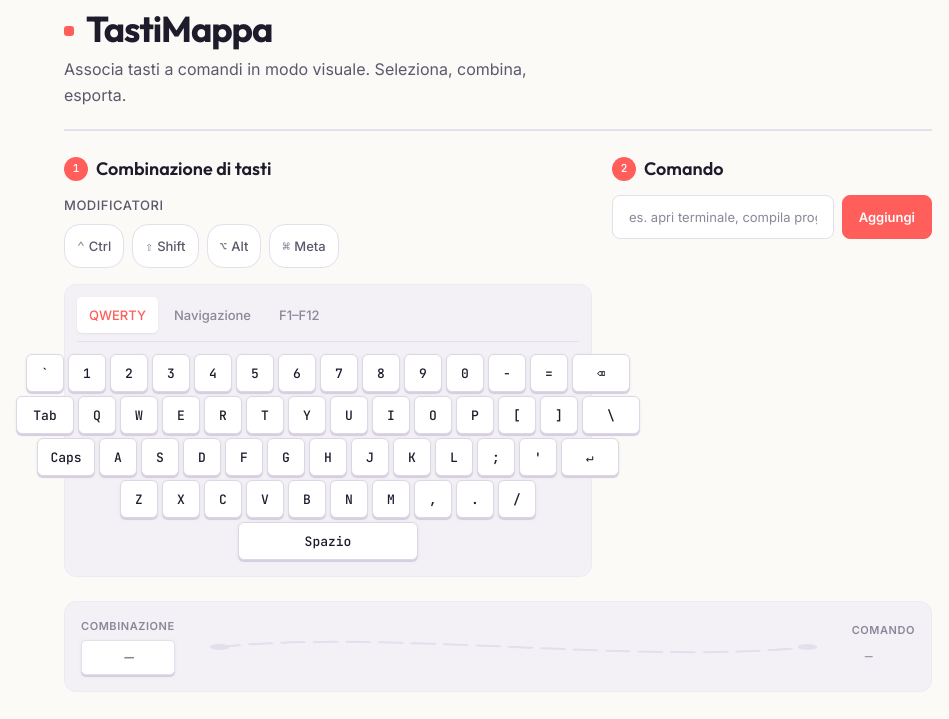
Scenario: TastiMappa › mostra errore se si prova ad aggiungere senza selezionare un tasto
Step 1. Click the button "Aggiungi" → (887, 217), box left=842, top=195, right=932, bottom=239
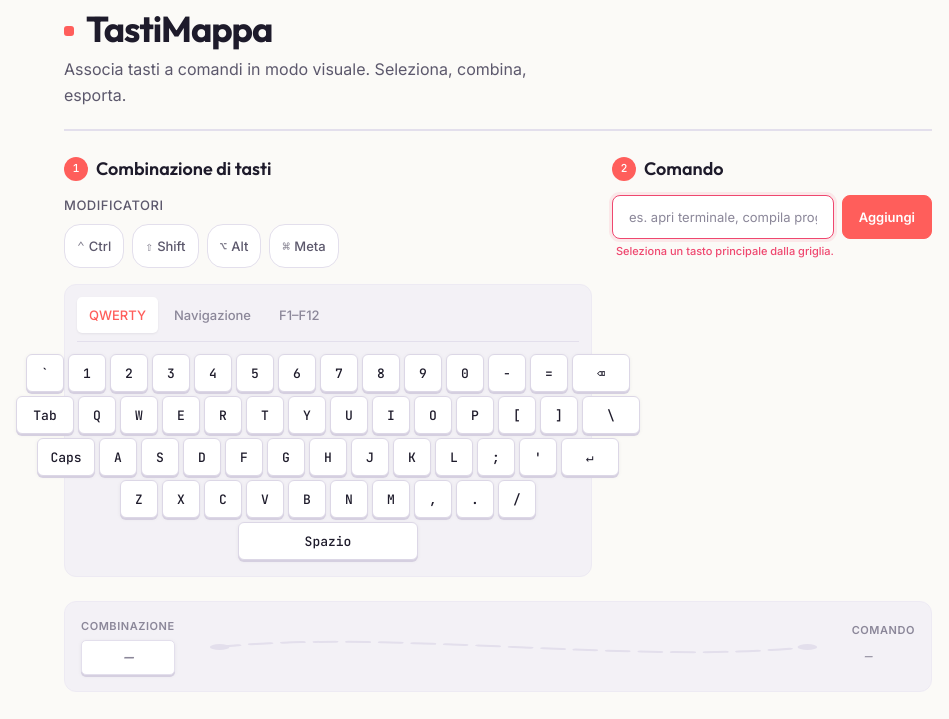
Now the text "Seleziona un tasto principale dalla griglia." is shown, box left=616, top=244, right=834, bottom=258
